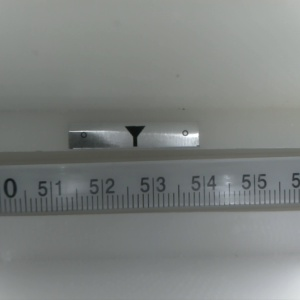0: (3, 178, 16, 198)
1: (54, 180, 61, 196)
2: (104, 178, 114, 194)
3: (155, 176, 166, 192)
4: (207, 176, 217, 190)
5: (291, 172, 300, 189), (190, 176, 200, 191), (37, 181, 47, 196), (141, 177, 151, 192), (89, 179, 98, 194), (241, 174, 250, 189), (257, 174, 266, 189)
finger: (123, 126, 145, 149)
